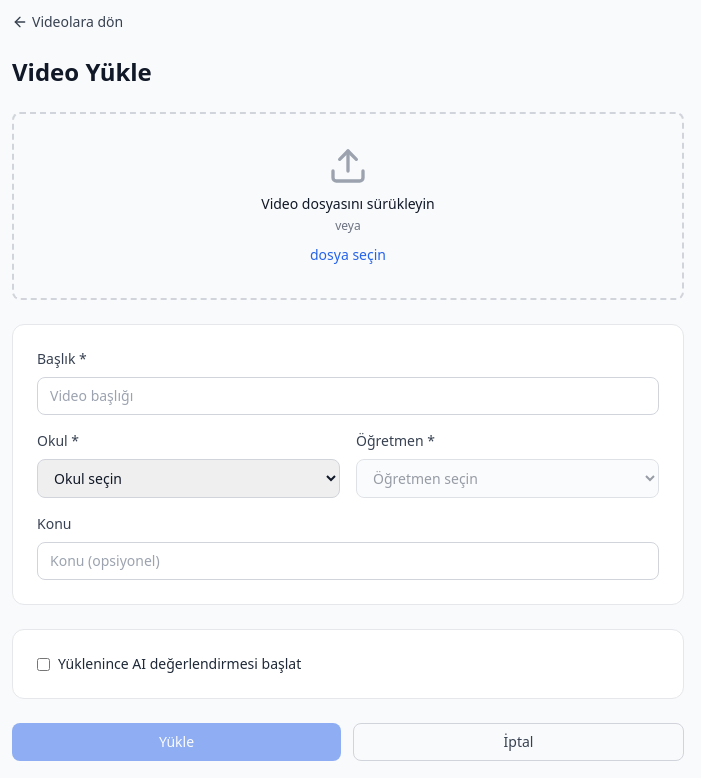
Test: VideoUploadPage › okul seçilince öğretmen listesi aktif olur
Select "Anadolu Lisesi" in the dropdown below "Okul *". click: (188, 478)
box: [37,459,340,498]
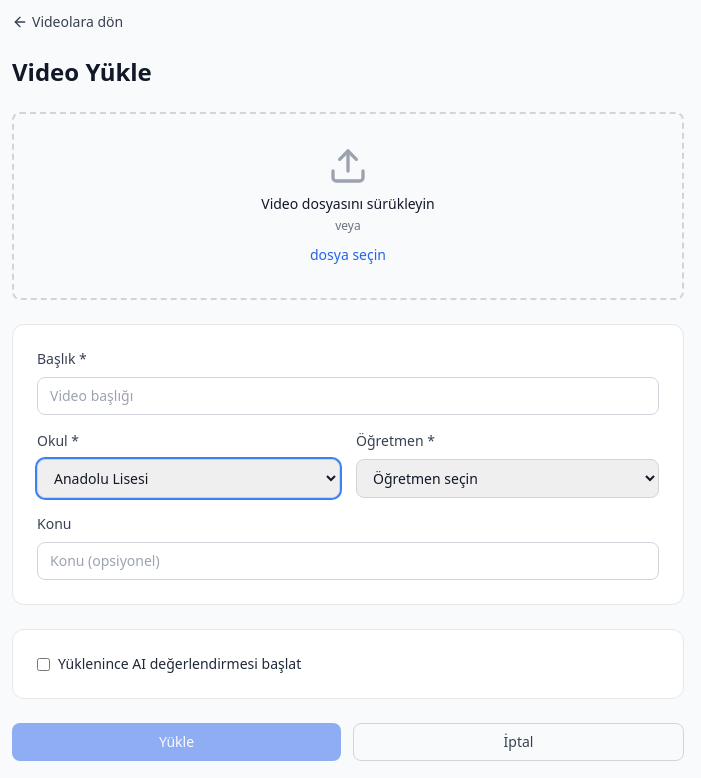
Expected: the dropdown below "Öğretmen *" is enabled, [356,459,659,498]
